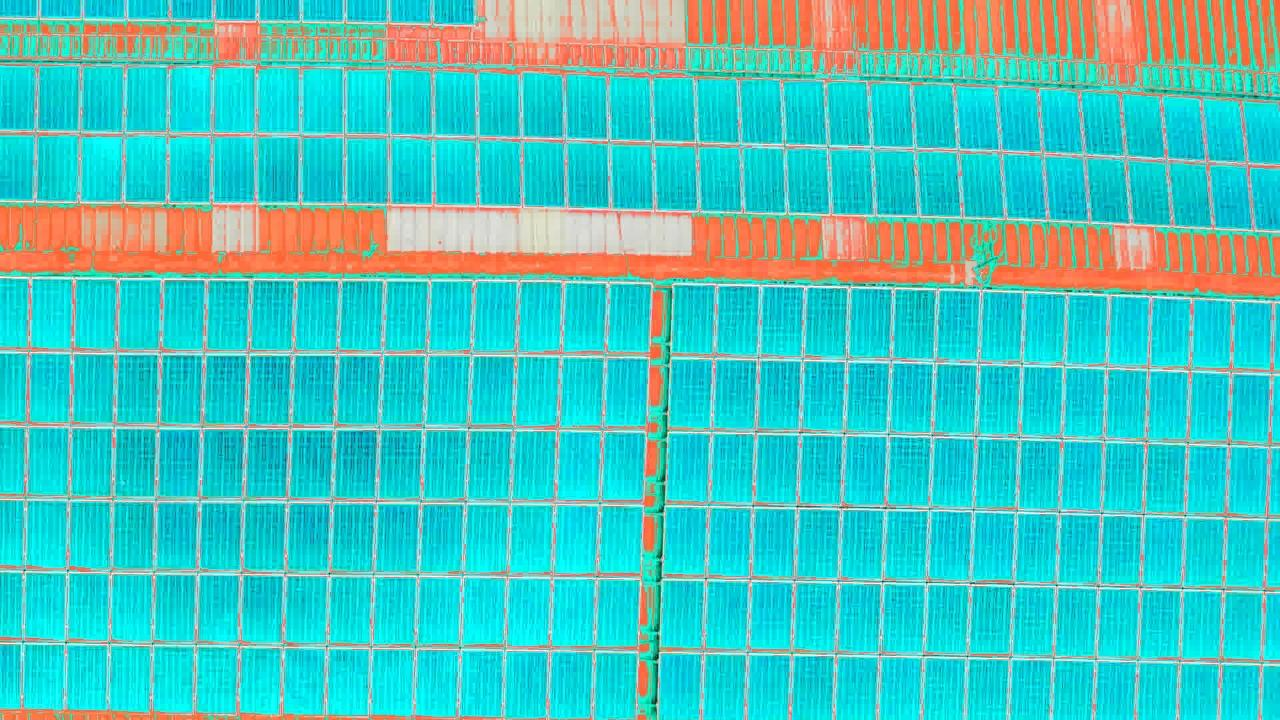dirty: (5, 278, 646, 720), (667, 282, 1277, 720), (6, 66, 1280, 228)
